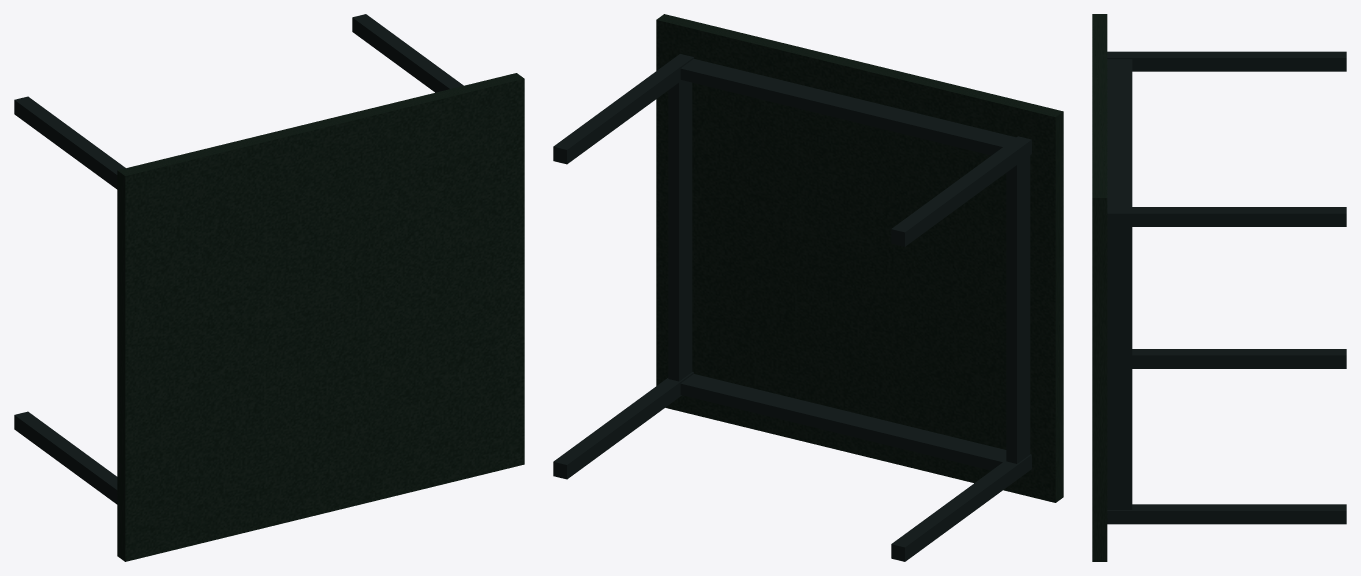
The model's file is local.glb.
3 views of the same model, side by side, from view 1: azimuth 30°, elevation 25°; view 2: azimuth 150°, elevation 25°; view 3: azimuth 270°, elevation 25° (orthographic). The views are drawn at different scales.
Parts seen in each view (by area): view 1: tabletop; view 2: tabletop; view 3: tabletop.
Boxes of the visible parts, x1,y1,x2,y2 form: tabletop: (14,14,524,561); tabletop: (553,14,1063,561); tabletop: (1092,14,1346,561).
Size of the model in its own units: 1.3 by 1.2 by 0.76.
2 materials, 1 textured.
